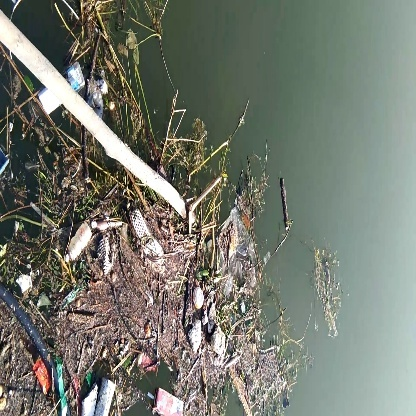bottle: (63, 217, 95, 268)
milk-box: (148, 384, 189, 416)
